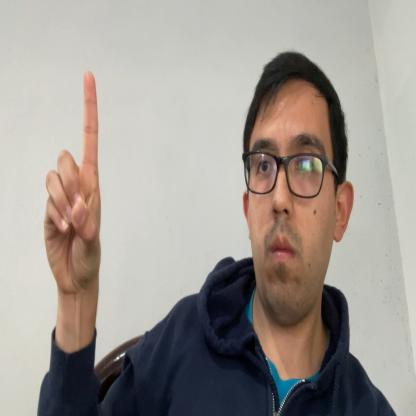D: (43, 72, 101, 296)
